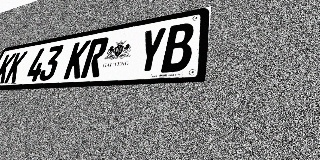3: (37, 45, 64, 81)
4: (24, 47, 50, 82)
B: (161, 22, 195, 73)
K: (63, 40, 91, 79), (4, 51, 28, 83), (0, 53, 17, 84)
R: (80, 37, 110, 78)
Y: (134, 27, 167, 75)
